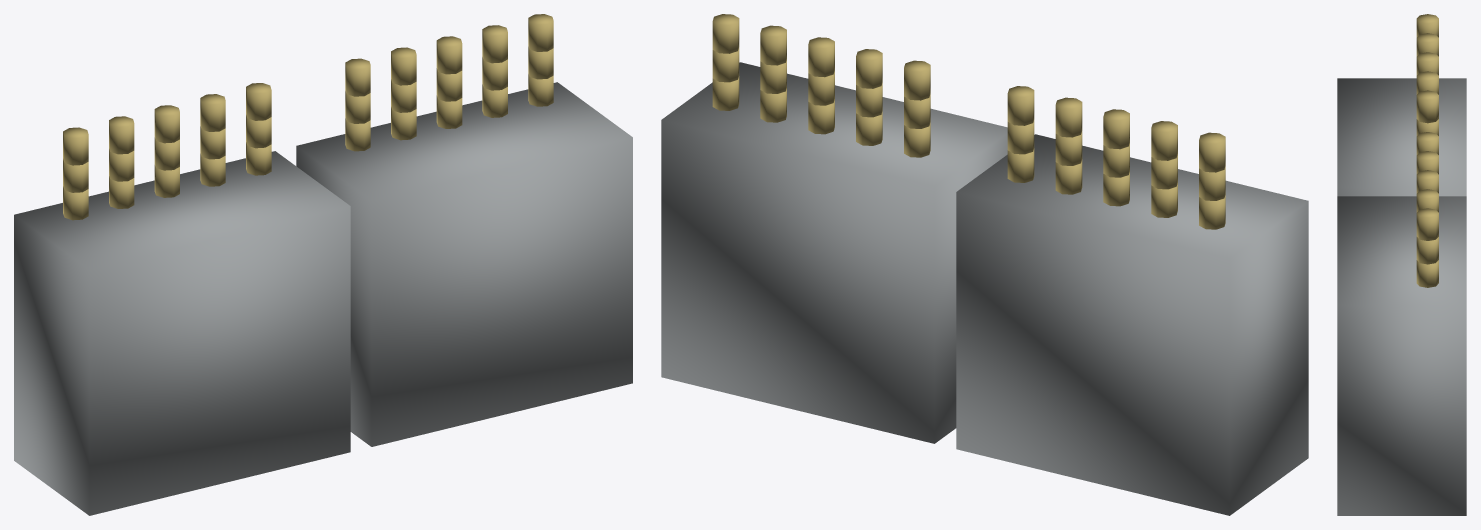
Rendered from votive_candle_stand__cluster.glb.
3 renders of one model, left to right at view 1: azimuth 30°, elevation 25°; view 2: azimuth 150°, elevation 25°; view 3: azimuth 270°, elevation 25°, orthographic. The views are drawn at different scales.
Visible parts, largest first — view 1: world; view 2: world; view 3: world.
Part boxes in pixels (left/top/right/bottom): world: left=14, top=14, right=632, bottom=515; world: left=661, top=14, right=1308, bottom=515; world: left=1337, top=14, right=1466, bottom=515.
Size of the model in its own units: 1.66 by 0.98 by 0.4.
